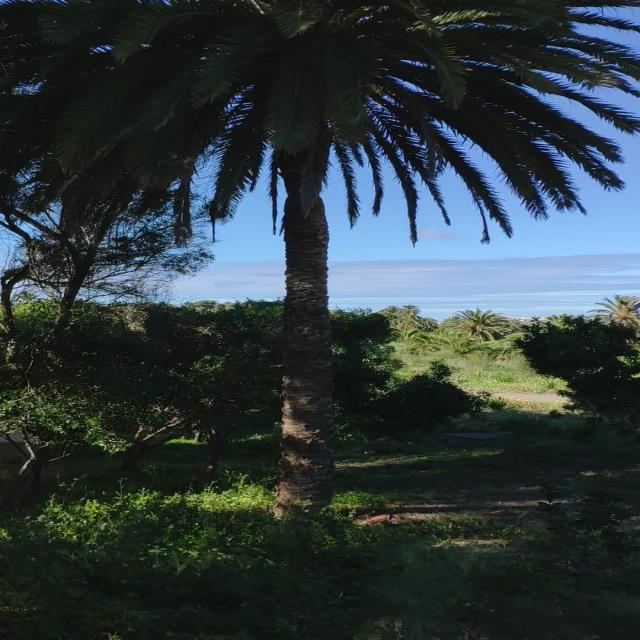Palm-Trees: (0, 0, 614, 511)
